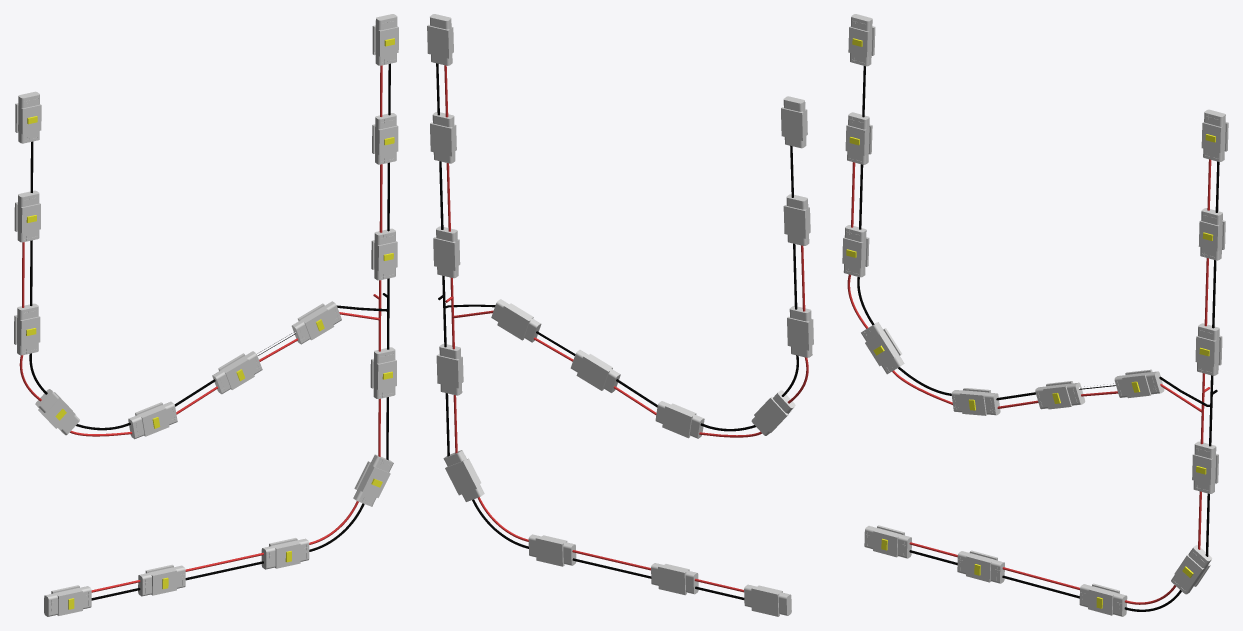
File: FIXED-LED.glb
The picture shows the model from 3 angles, left to right: view 1: azimuth 30°, elevation 25°; view 2: azimuth 150°, elevation 25°; view 3: azimuth 330°, elevation 25°; orthographic projection.
Parts seen in each view (by area): view 1: FIXED-LED.001; view 2: FIXED-LED.001; view 3: FIXED-LED.001.
Boxes of the visible parts, left/top/right/bottom form: FIXED-LED.001: left=14, top=14, right=398, bottom=616; FIXED-LED.001: left=427, top=14, right=813, bottom=616; FIXED-LED.001: left=842, top=14, right=1228, bottom=616.
Size of the model in its own units: 35.63 by 47.09 by 2.46.
